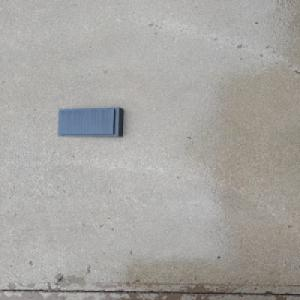PlasticPart: (56, 106, 124, 138)
